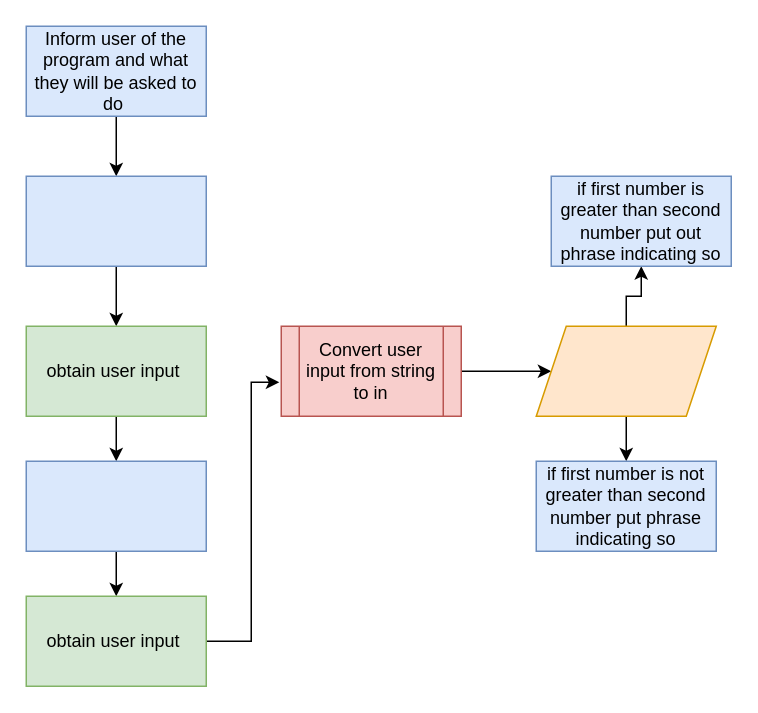
Image size: 758x713. Some labels were removed from this diagram. Here are the shapes that lost their labels. From the top down, the centre of each, then its label:
the point at 115,220: ask the user for first number
the point at 625,370: create if than statment
the point at 115,505: ask user for second number
